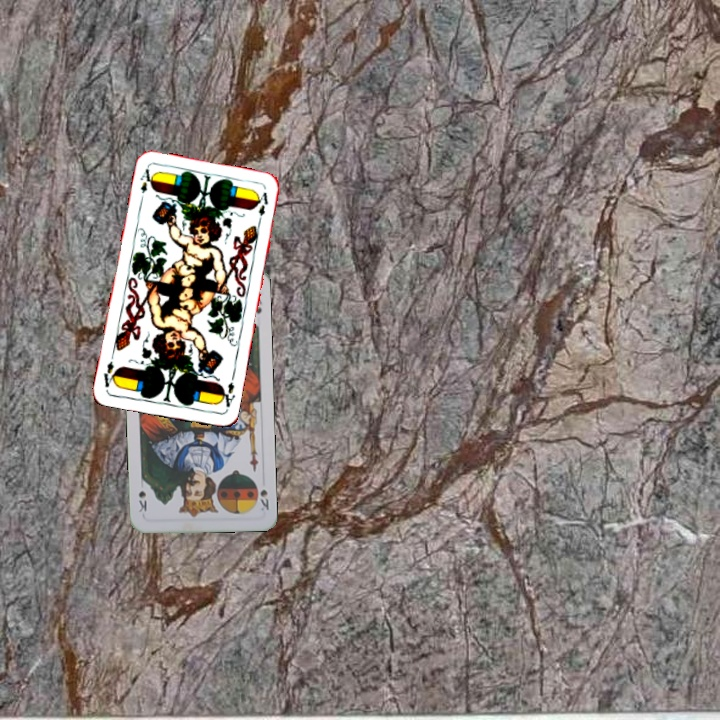EA: (216, 378, 237, 410), (136, 164, 156, 196)
SK: (252, 478, 271, 513)
